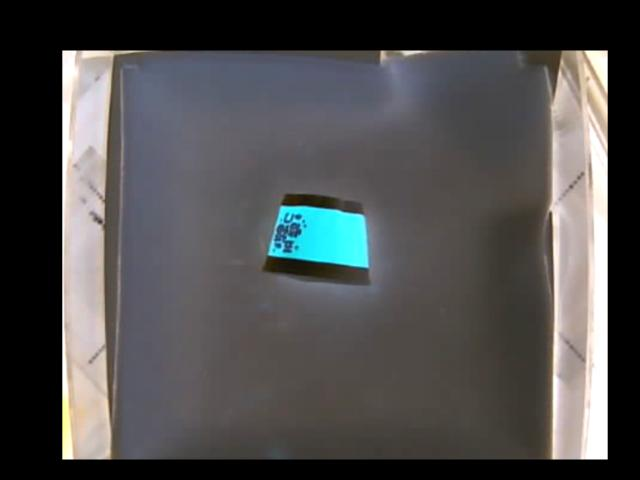Cup: (264, 192, 371, 289)
